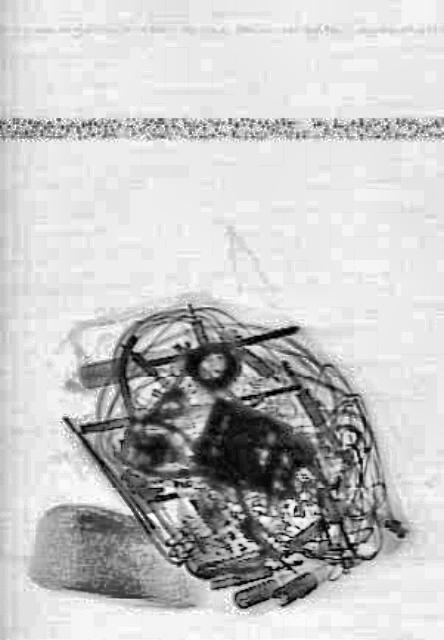Pliers: (93, 322, 191, 478), (120, 409, 226, 491)
